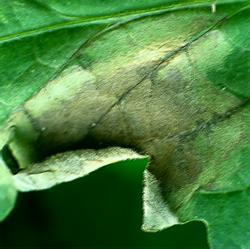Tomato leaf late blight: (4, 0, 250, 234)
